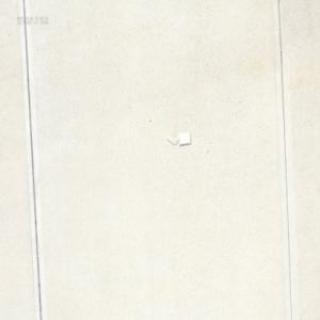LuggageTagtrack_idkeyframe: (164, 129, 190, 147)
